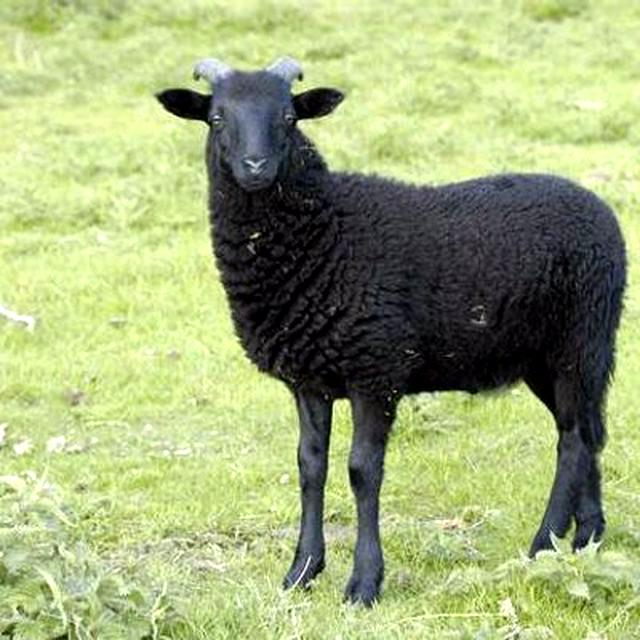sheep: (157, 54, 630, 605)
